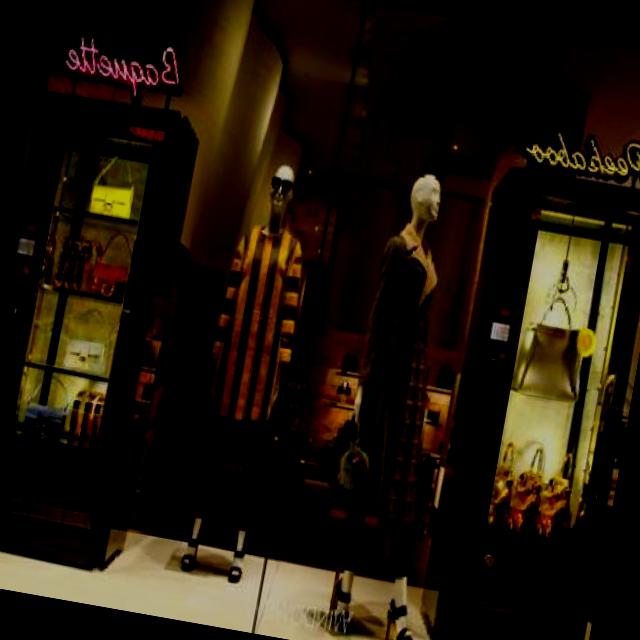Person: (309, 158, 500, 640), (169, 148, 334, 592)
